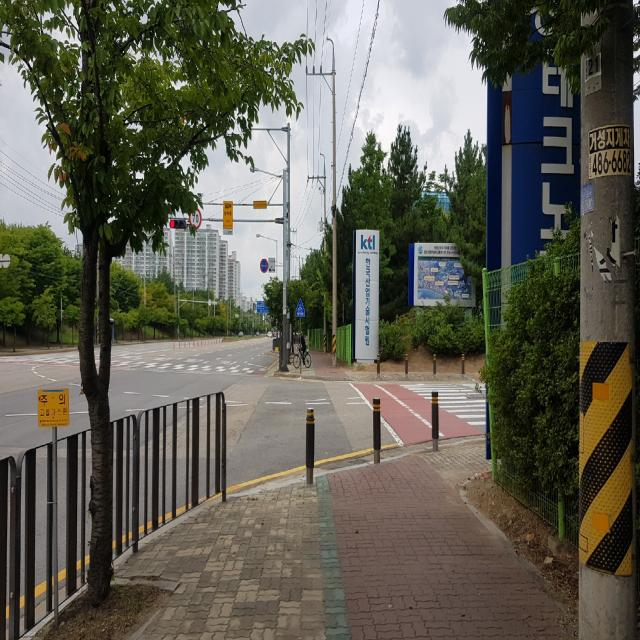횡단보도: (67, 349, 263, 372), (398, 382, 486, 426)
